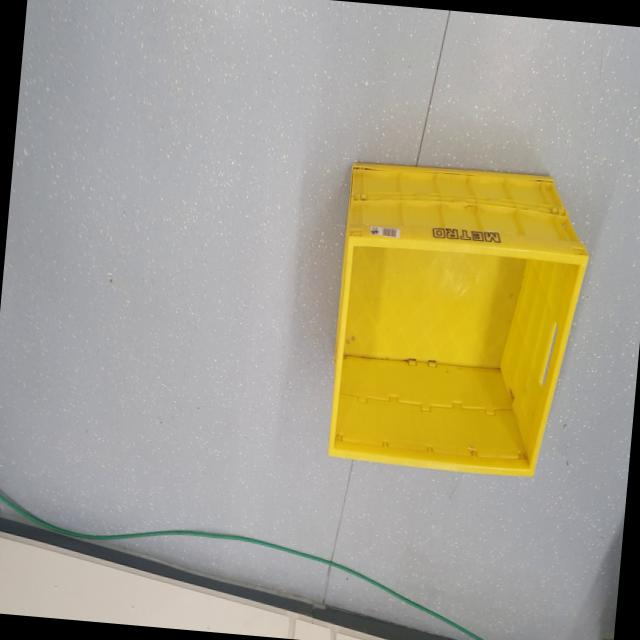box: (313, 130, 602, 500)
